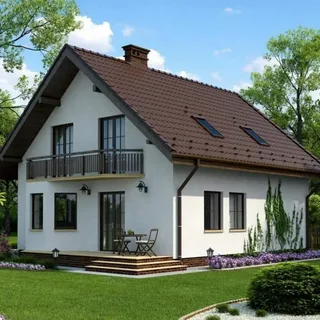private_hause: (16, 45, 310, 249)
